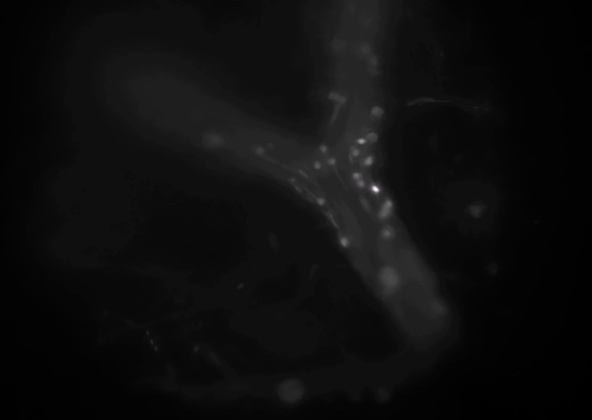cell: (368, 183, 382, 197), (354, 133, 368, 147), (371, 104, 385, 118), (348, 146, 362, 160), (361, 154, 375, 168), (316, 141, 330, 155), (311, 159, 325, 173), (323, 155, 337, 169), (325, 88, 339, 102), (350, 169, 364, 183), (333, 93, 347, 107), (353, 177, 367, 191), (337, 236, 351, 250), (382, 272, 396, 286), (380, 227, 394, 241), (381, 197, 395, 211), (377, 208, 391, 222), (378, 203, 392, 217), (312, 195, 326, 209), (379, 284, 393, 298), (284, 172, 298, 186), (252, 142, 266, 156), (207, 134, 221, 148), (435, 301, 449, 315), (358, 43, 372, 57), (366, 53, 380, 67), (333, 38, 347, 52), (366, 130, 380, 144)
